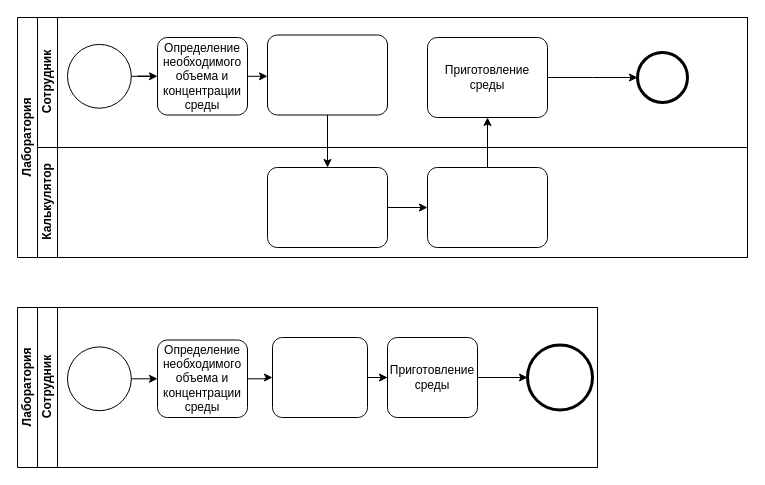
Some shapes in this 765 by 485 pixel diagram are drawn without their labels. The box of each missing label's shape, as (x1, y1, x2, y2) in pixels:
Ввод данных в интерфейсе калькулятора: (266, 34, 388, 115)
Отображение результата в интерфейсе: (426, 166, 548, 248)
Расчёт состава вручную: (272, 336, 368, 418)
Расчёт состава среды: (266, 166, 388, 248)
